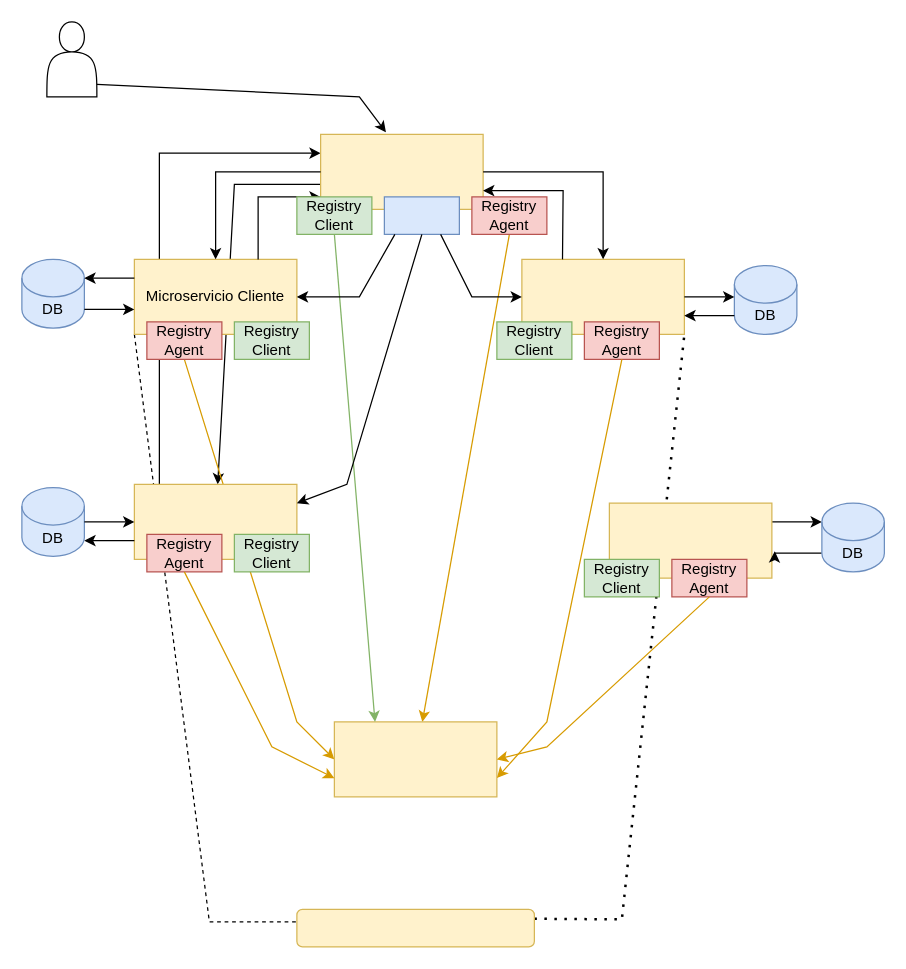
Image size: 906x969. Some labels were removed from this diagram. Each missing label, with the box of its shape:
API Gateway: (319, 133, 483, 209)
Load Balancer: (383, 196, 459, 234)
message broker: (296, 908, 534, 947)
Microservicio Consumo: (133, 483, 297, 559)
Microservicio peertopeer: (608, 502, 772, 578)
Microservicio Producto: (521, 258, 684, 334)
Servicio Registro: (333, 721, 497, 797)
